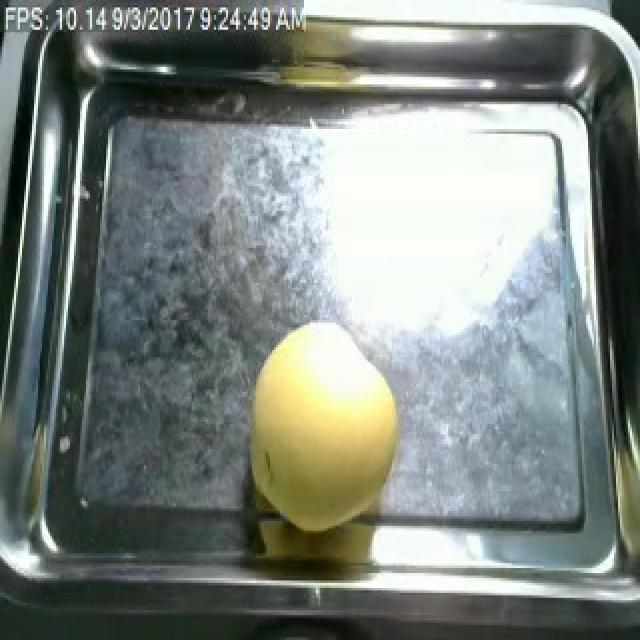Fruit: (238, 310, 414, 541)
